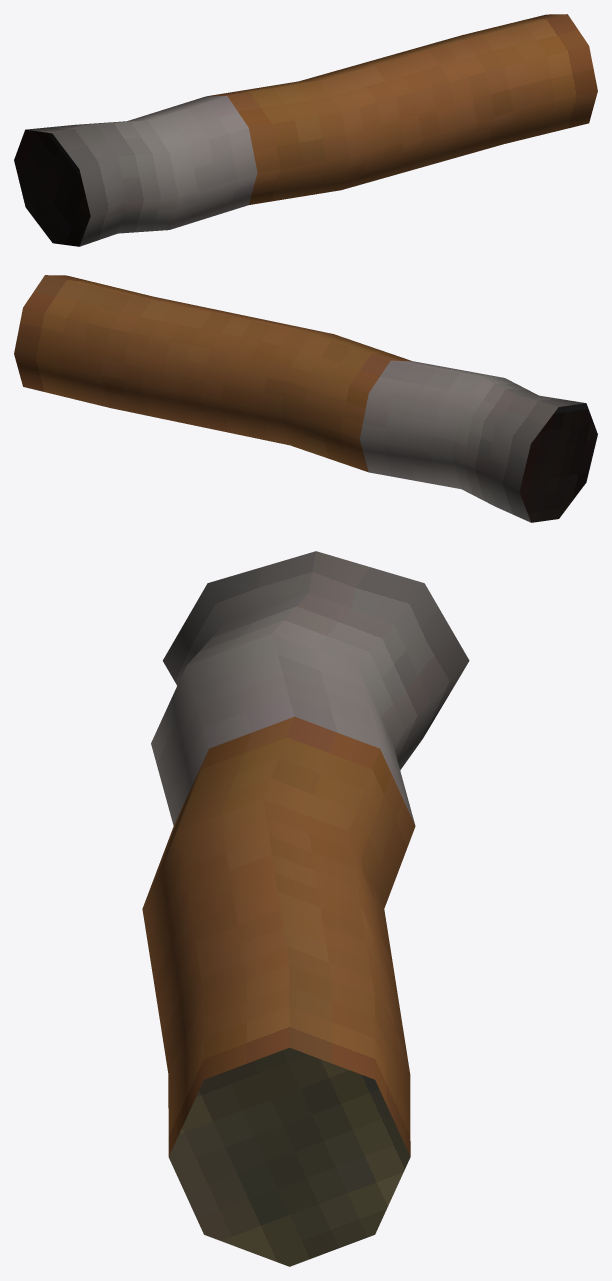
File: Cig3.glb
The picture shows the model from 3 angles, top to bottom: view 1: azimuth 30°, elevation 25°; view 2: azimuth 150°, elevation 25°; view 3: azimuth 270°, elevation 25°; orthographic projection. The views are drawn at different scales.
Parts seen in each view (by area): view 1: cig_3; view 2: cig_3; view 3: cig_3.
Part boxes in pixels (left/top/right/bottom): cig_3: left=14, top=14, right=597, bottom=246; cig_3: left=14, top=275, right=597, bottom=522; cig_3: left=142, top=551, right=469, bottom=1266.
Bounding box in the file's own units: 0.0656 × 0.0135 × 0.0183.
1 material, 1 textured.
